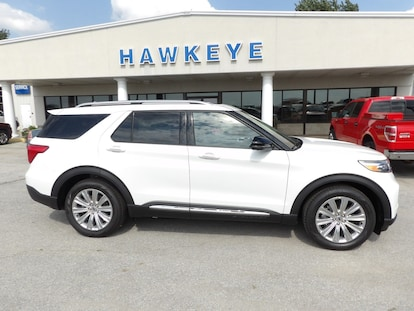Ford Explorer: (26, 100, 400, 251)
